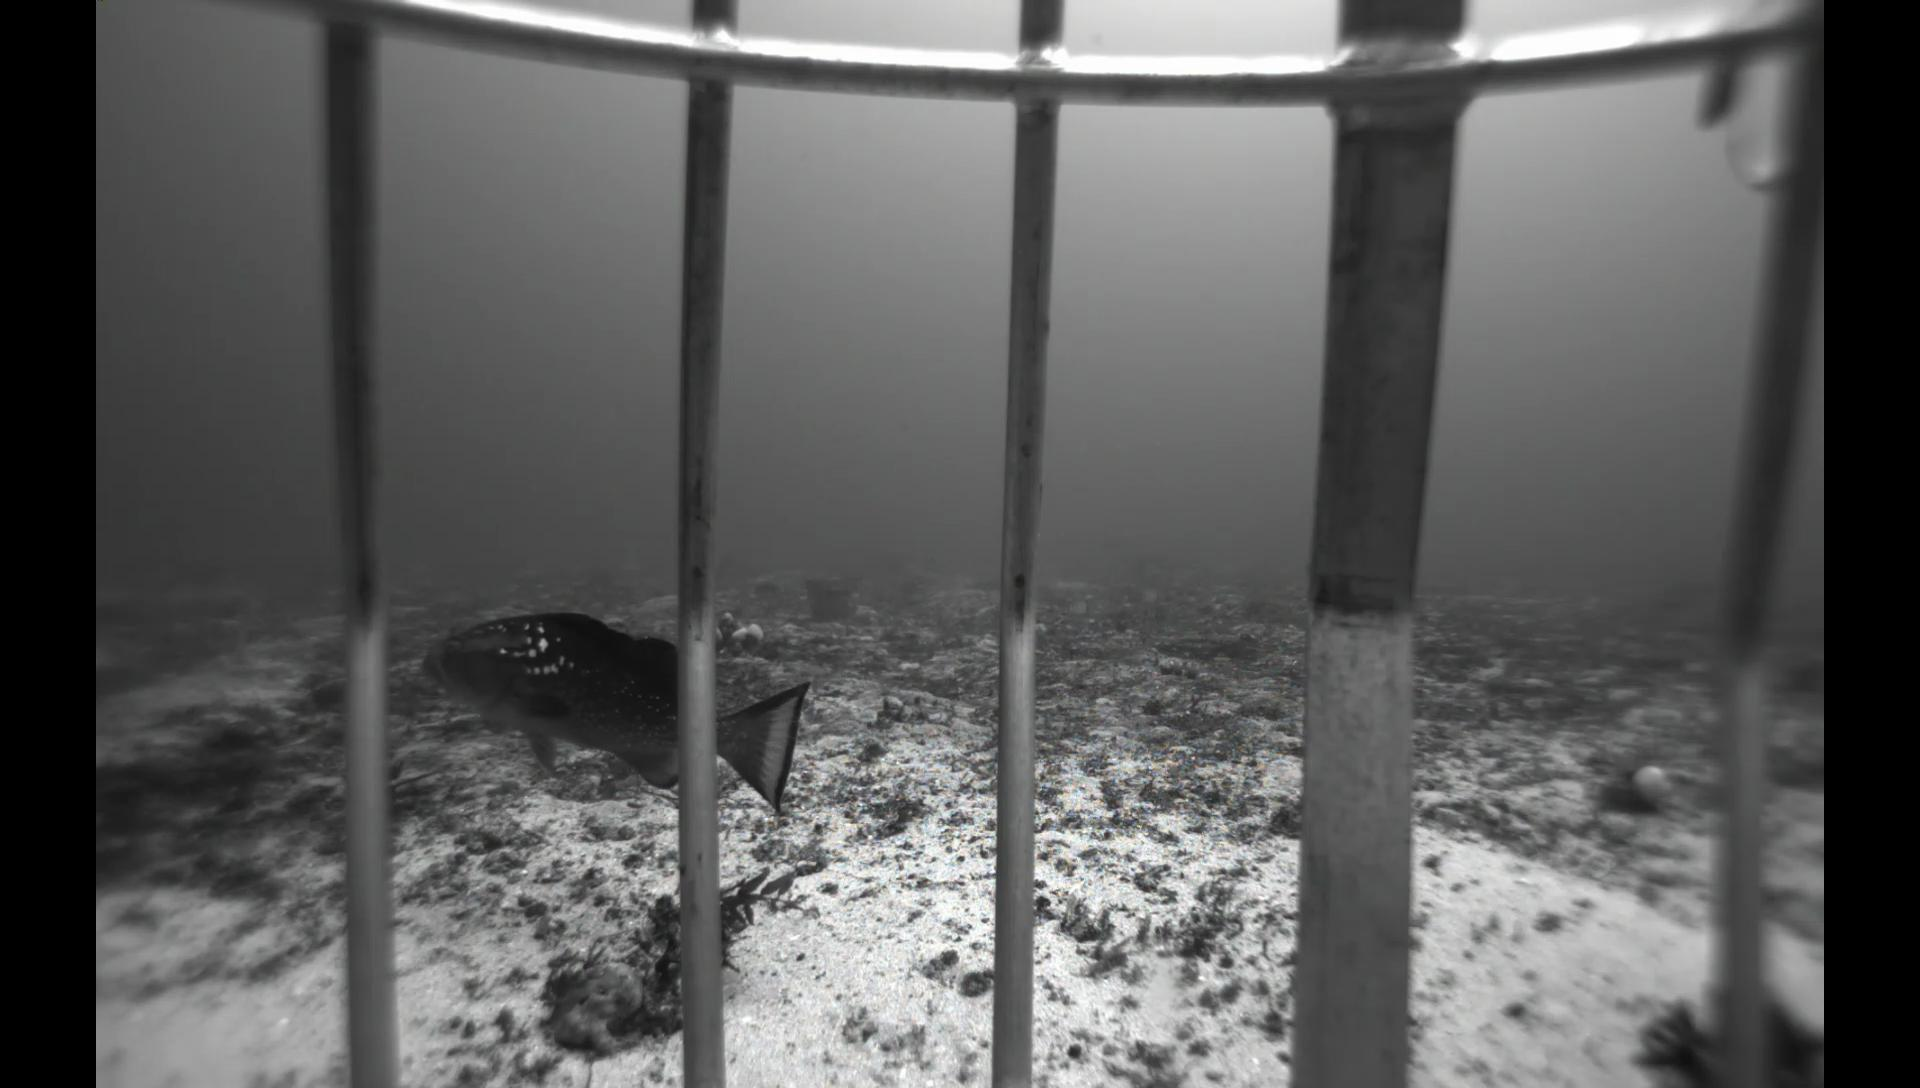CHAETODONOCELLATUS-170260307: (1054, 589, 1098, 622), (1129, 582, 1164, 611)
EPINEPHELUSMORIO-170021211: (411, 601, 822, 827)
PRISTIGENYSALTA-170050401: (297, 677, 347, 719)
